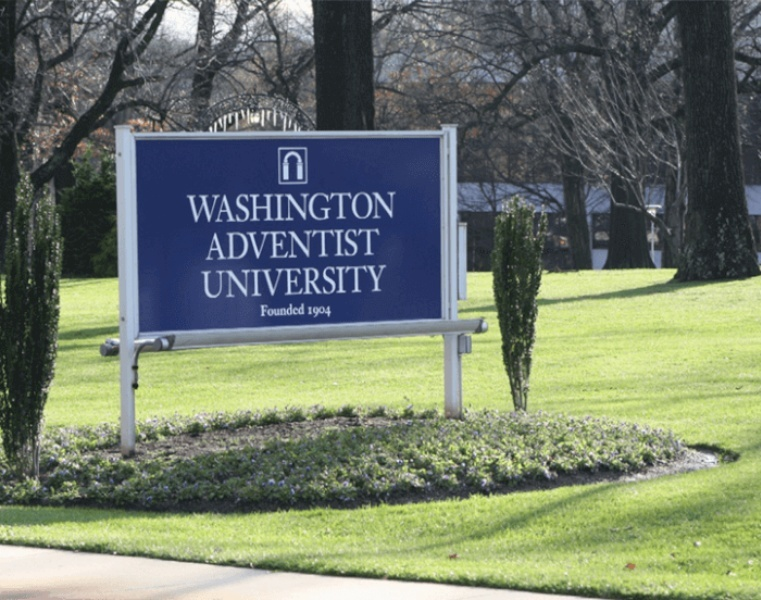text: (209, 264, 224, 298), (225, 264, 240, 298), (241, 264, 256, 298), (257, 264, 272, 298), (273, 264, 288, 298), (289, 264, 304, 298), (305, 264, 320, 298), (321, 264, 336, 298), (337, 264, 352, 298), (353, 264, 368, 298), (369, 264, 384, 298), (193, 191, 208, 224), (209, 191, 224, 224), (225, 191, 240, 224), (241, 191, 256, 224), (257, 191, 272, 224), (273, 191, 288, 224), (289, 191, 304, 224), (305, 191, 320, 224), (321, 191, 336, 224), (337, 191, 352, 224), (353, 191, 368, 224), (369, 191, 384, 224), (225, 228, 240, 260), (241, 228, 256, 260), (257, 228, 272, 260), (273, 228, 288, 260), (289, 228, 304, 260), (305, 228, 320, 260), (321, 228, 336, 260), (337, 228, 352, 260), (353, 228, 368, 260), (369, 228, 383, 260), (385, 191, 397, 224), (214, 228, 224, 260), (199, 264, 208, 298), (273, 302, 288, 318), (289, 302, 304, 318), (185, 191, 192, 224), (260, 302, 272, 318), (308, 304, 320, 318), (321, 304, 333, 318), (385, 264, 386, 298), (305, 302, 307, 318)
